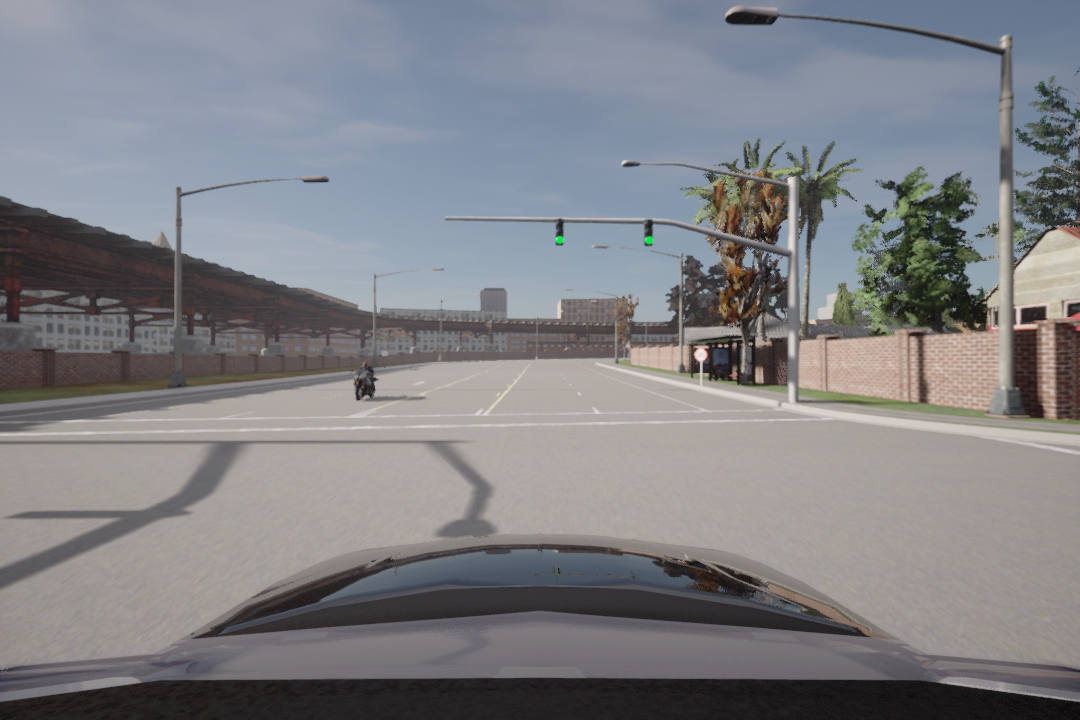TrafficLight: (640, 218, 657, 249), (553, 218, 568, 250)
